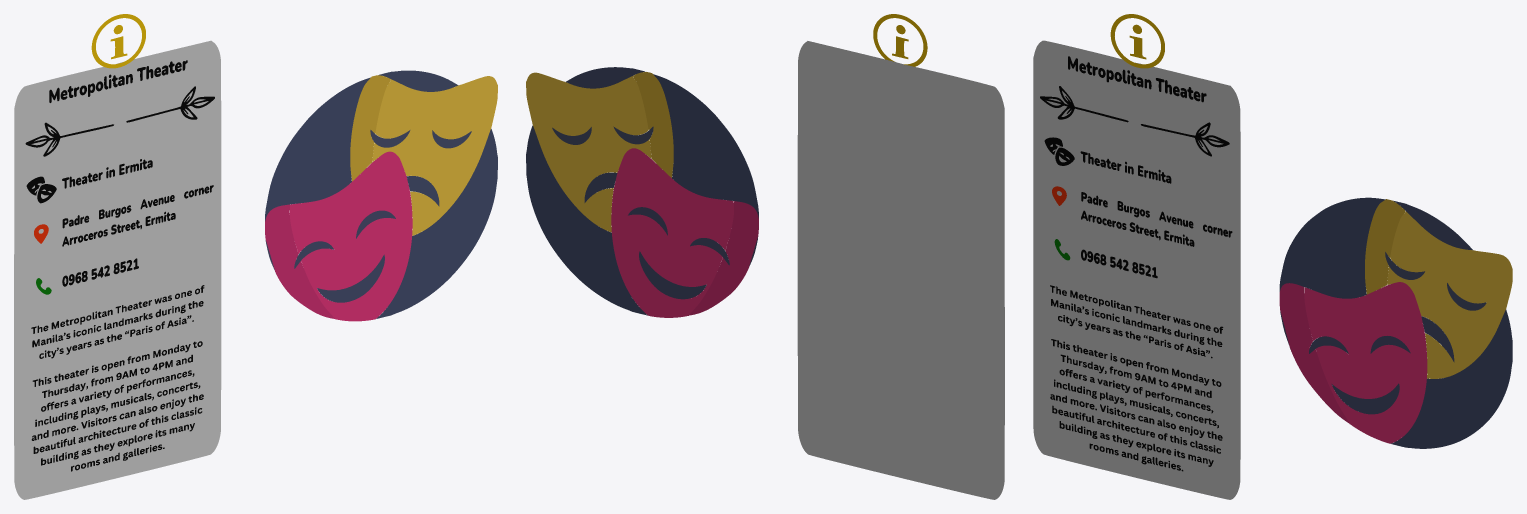
The model's file is METROPOLITAN.fbx.
The picture shows the model from 3 angles, left to right: view 1: azimuth 30°, elevation 25°; view 2: azimuth 150°, elevation 25°; view 3: azimuth 330°, elevation 25°; orthographic projection.
Parts seen in each view (by area): view 1: Curve.001; view 2: Curve.001; view 3: Curve.001.
Part boxes in pixels (box(x1,y1,x2,y2)): Curve.001: box(14, 14, 497, 499); Curve.001: box(526, 14, 1004, 499); Curve.001: box(1033, 14, 1512, 499).
Bounding box in the file's own units: 66.15 × 60.81 × 0.5774.
